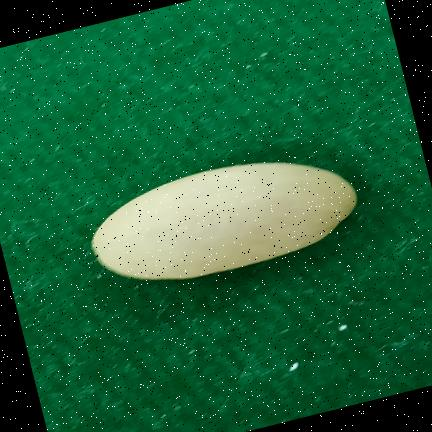parchment: (92, 162, 357, 279)
